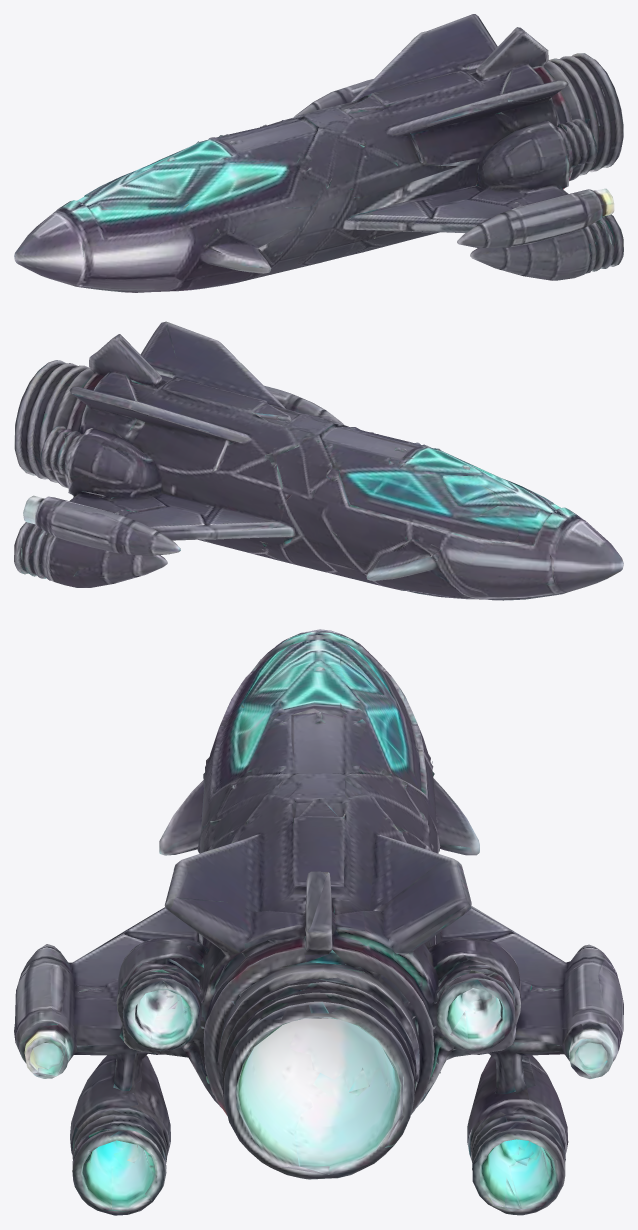
File: spaceship.glb
The picture shows the model from 3 angles, top to bottom: view 1: azimuth 30°, elevation 25°; view 2: azimuth 150°, elevation 25°; view 3: azimuth 270°, elevation 25°; orthographic projection. The views are drawn at different scales.
Visible parts, largest first — view 1: Mesh10; view 2: Mesh10; view 3: Mesh10.
Part boxes in pixels (x1,y1,x2,y2): Mesh10: (14, 14, 623, 292); Mesh10: (14, 321, 623, 600); Mesh10: (14, 629, 623, 1215).
Bounding box in the file's own units: 1.91 × 0.6252 × 1.06.
1 material, 1 textured.
